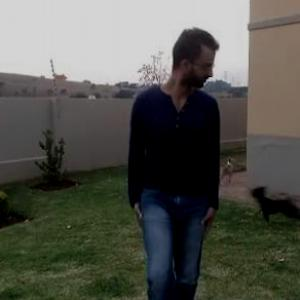follow: (132, 18, 225, 272)
